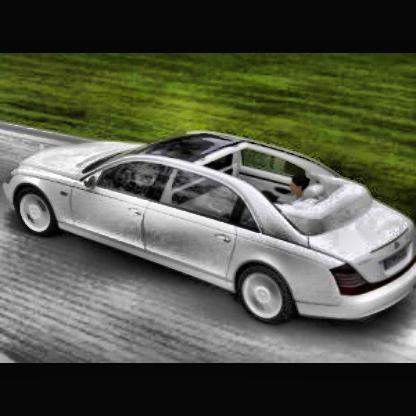Maybach Landaulet Convertible 2012: (4, 120, 416, 333)
